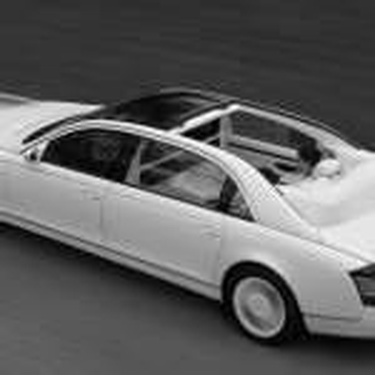car: (4, 5, 372, 370)
